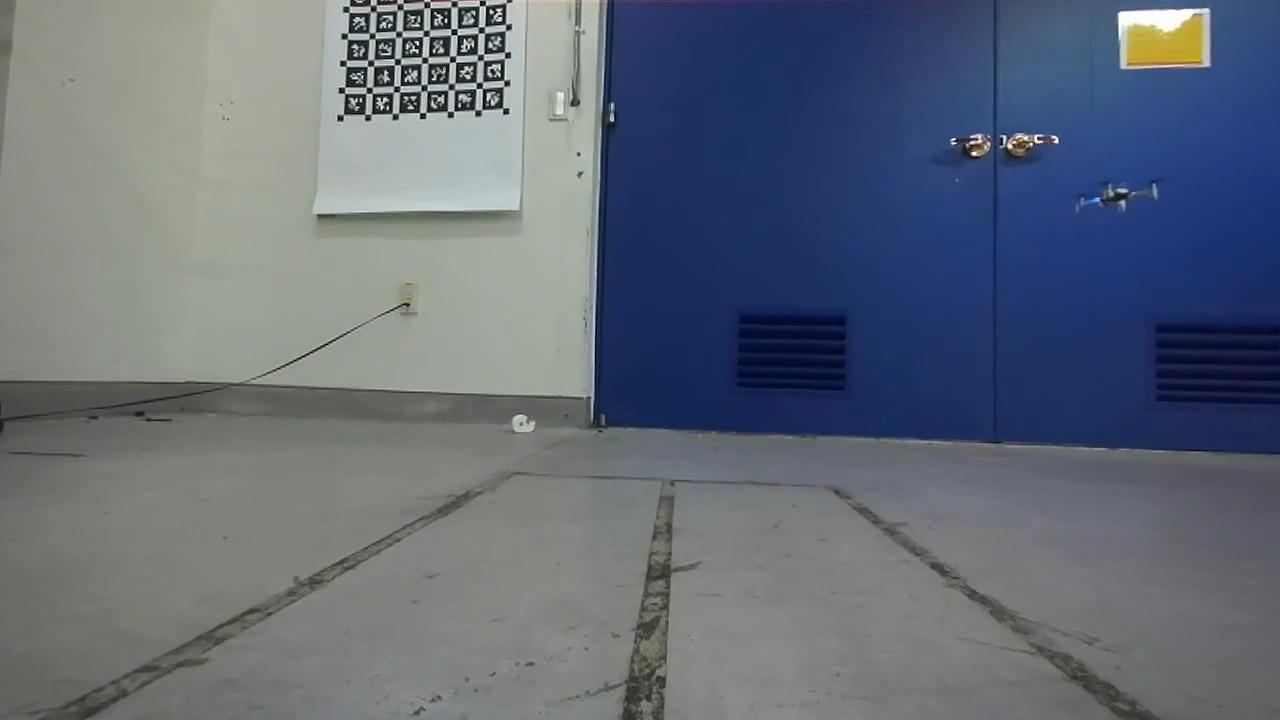crazyflie: (1061, 175, 1164, 220)
